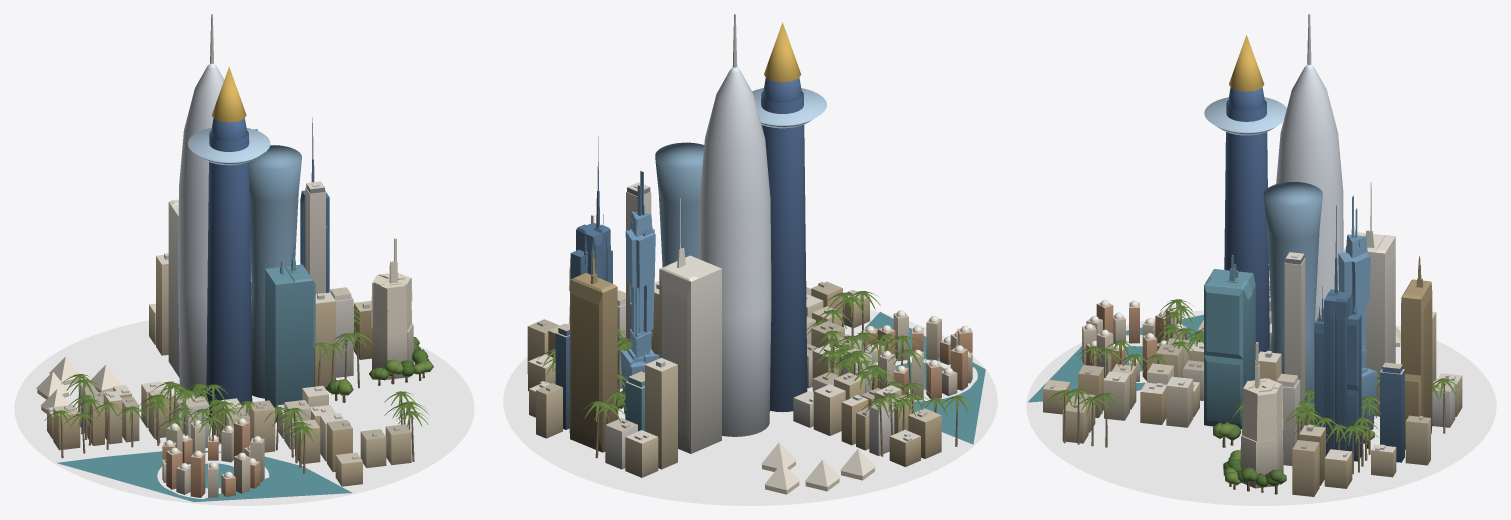
Rendered from city_qa.glb.
3 views of the same model, side by side, from view 1: azimuth 30°, elevation 25°; view 2: azimuth 150°, elevation 25°; view 3: azimuth 270°, elevation 25° (orthographic). The views are drawn at different scales.
Visible parts, largest first — view 1: city_qa; view 2: city_qa; view 3: city_qa.
Boxes of the visible parts, <box> form: city_qa: <box>14,14,474,505</box>; city_qa: <box>503,14,997,505</box>; city_qa: <box>1026,14,1496,505</box>.
Bounding box in the file's own units: 11.17 × 10.1 × 11.1.
